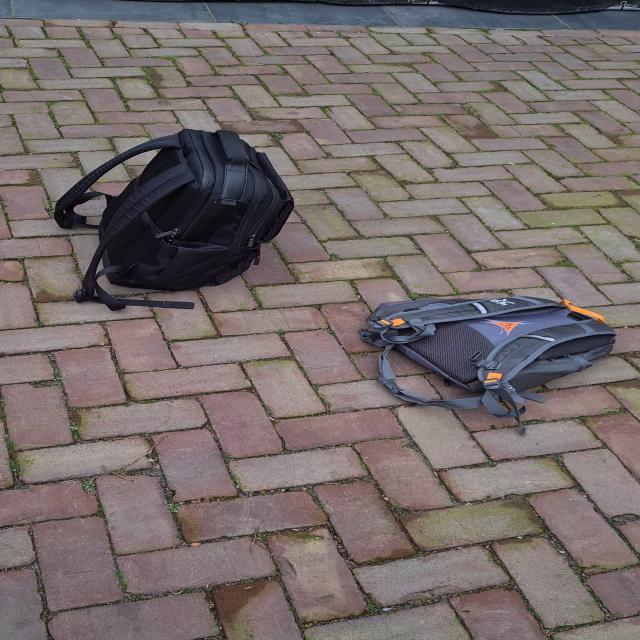backpack: (72, 125, 298, 313), (350, 294, 626, 413)
